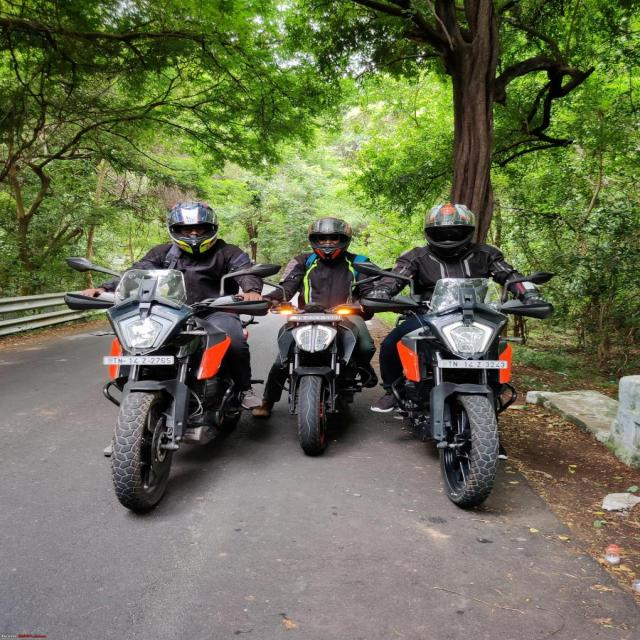motorcycle: (65, 201, 278, 511), (362, 204, 552, 507), (252, 216, 378, 455)
